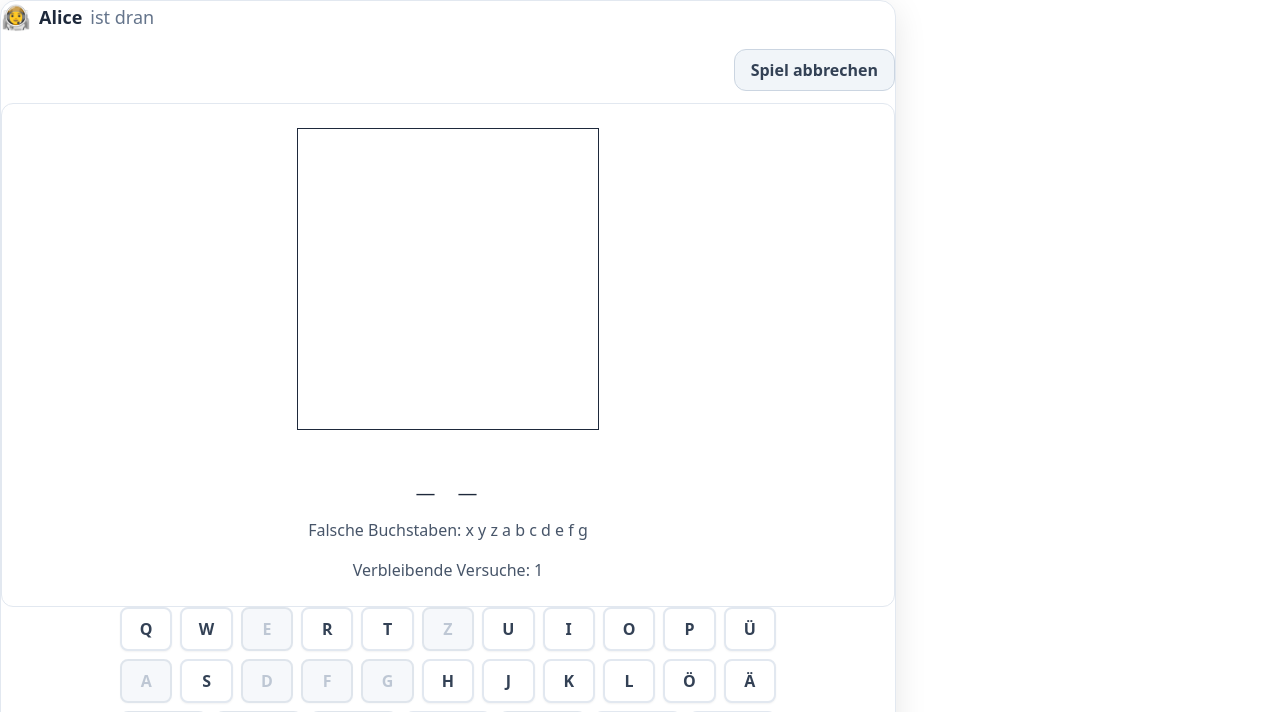
Test case: MultiplayerGame overlay and flow › indicates loss when attempts are exhausted on wrong guess
The image size is (1280, 712).
Note: One more wrong guess to exhaust to 11
Click the button named "Buchstabe H": (448, 681) [422,659,474,703]
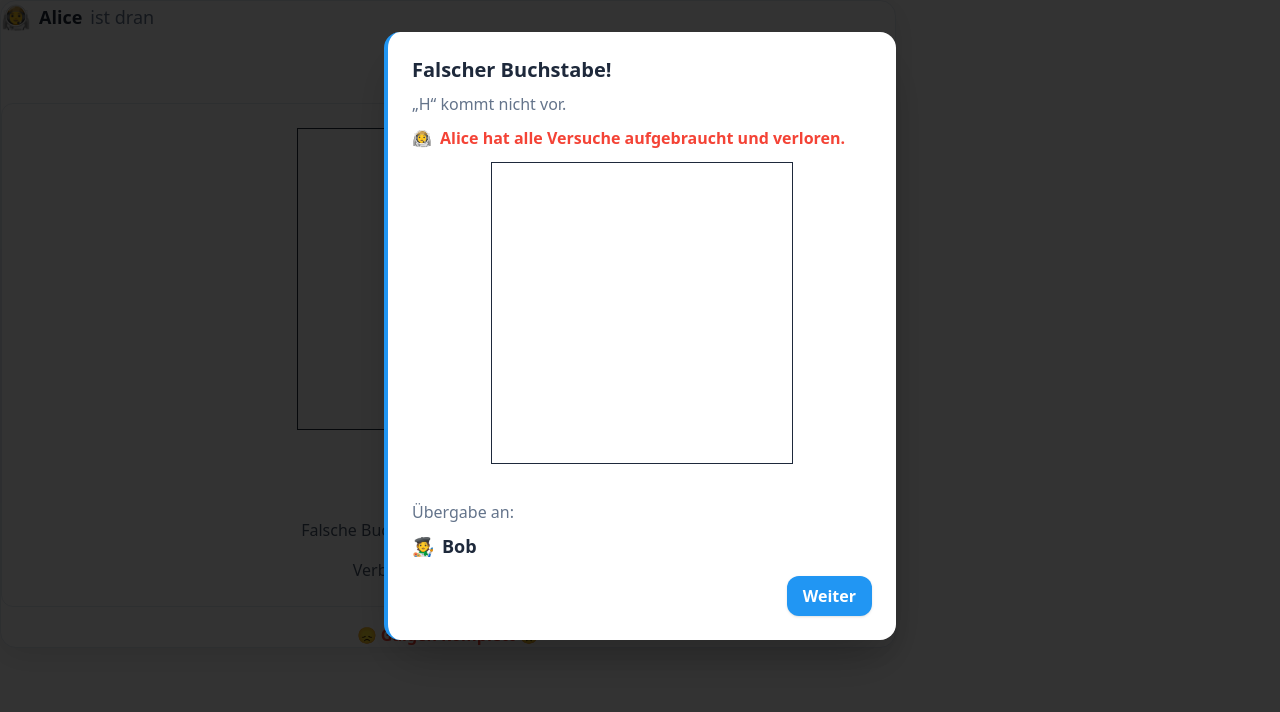
Check: the text "Alice hat alle Versuche aufgebraucht und verloren." is shown, box [440,127,845,149]
